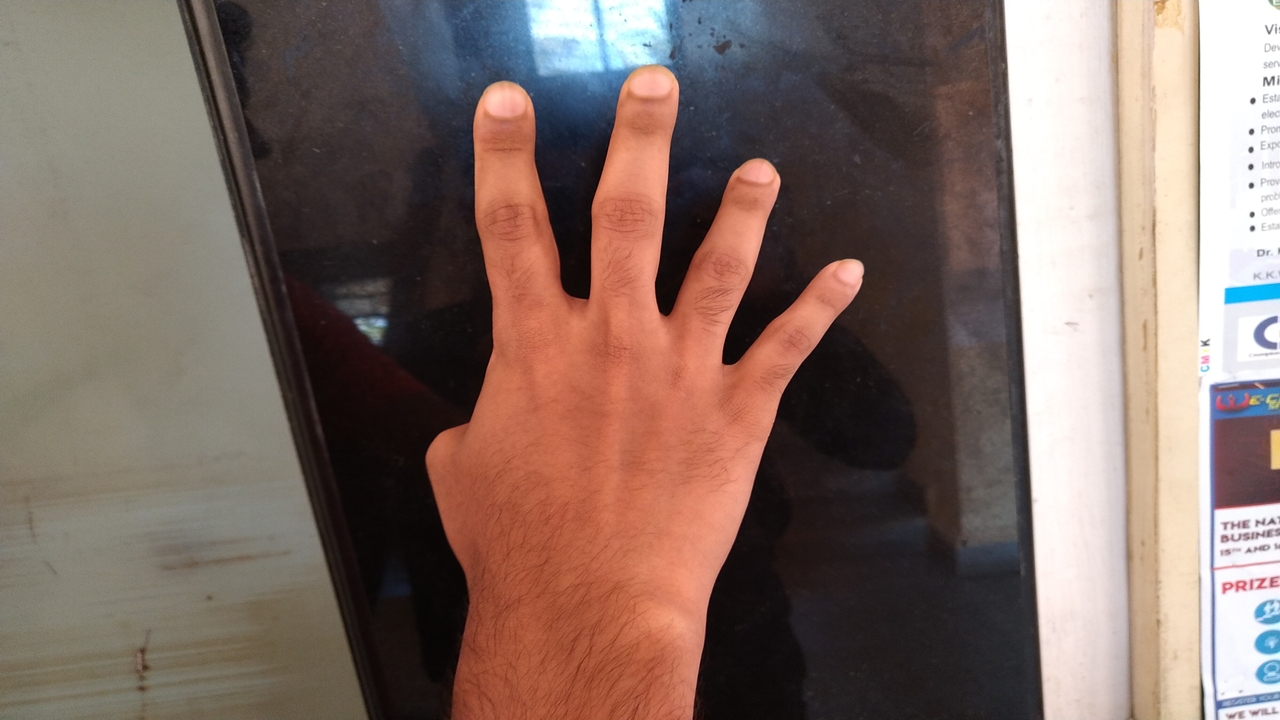fingertip: (802, 246, 878, 304), (718, 148, 790, 208), (468, 78, 534, 138), (614, 60, 680, 118)
